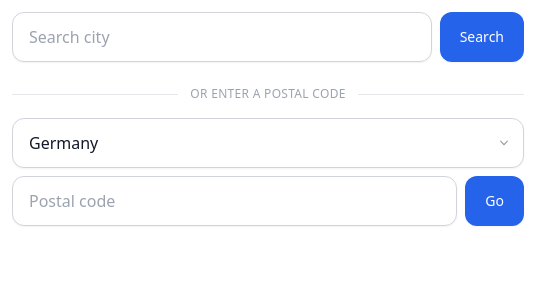
Scenario: LocationSearch › shows loading state while searching
This screenshot has width=541, height=301.
Type "Toronto" into the field with placeholder "Search city". click: [222, 37]
box: 12,12 -> 432,62
Then press Enter
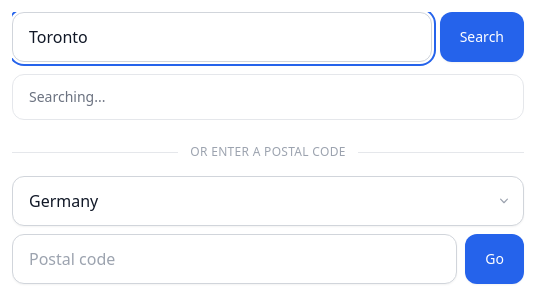
Now the text "Searching..." is shown, box 29,87 -> 106,106
